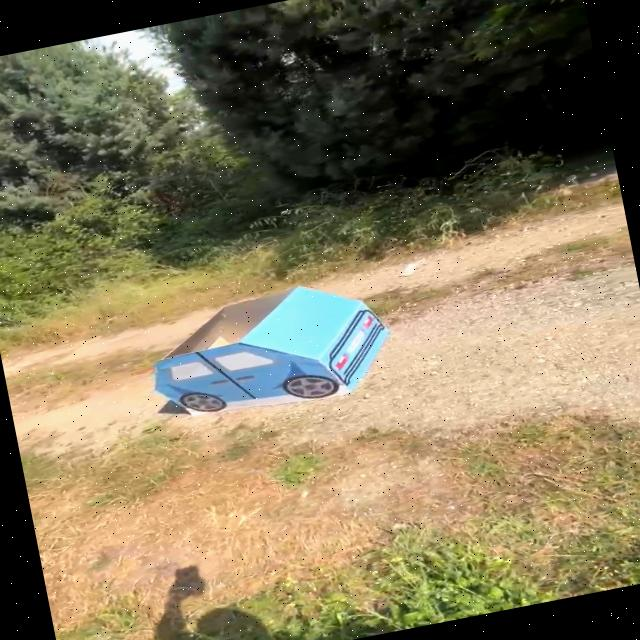blue_car: (130, 257, 415, 438)
